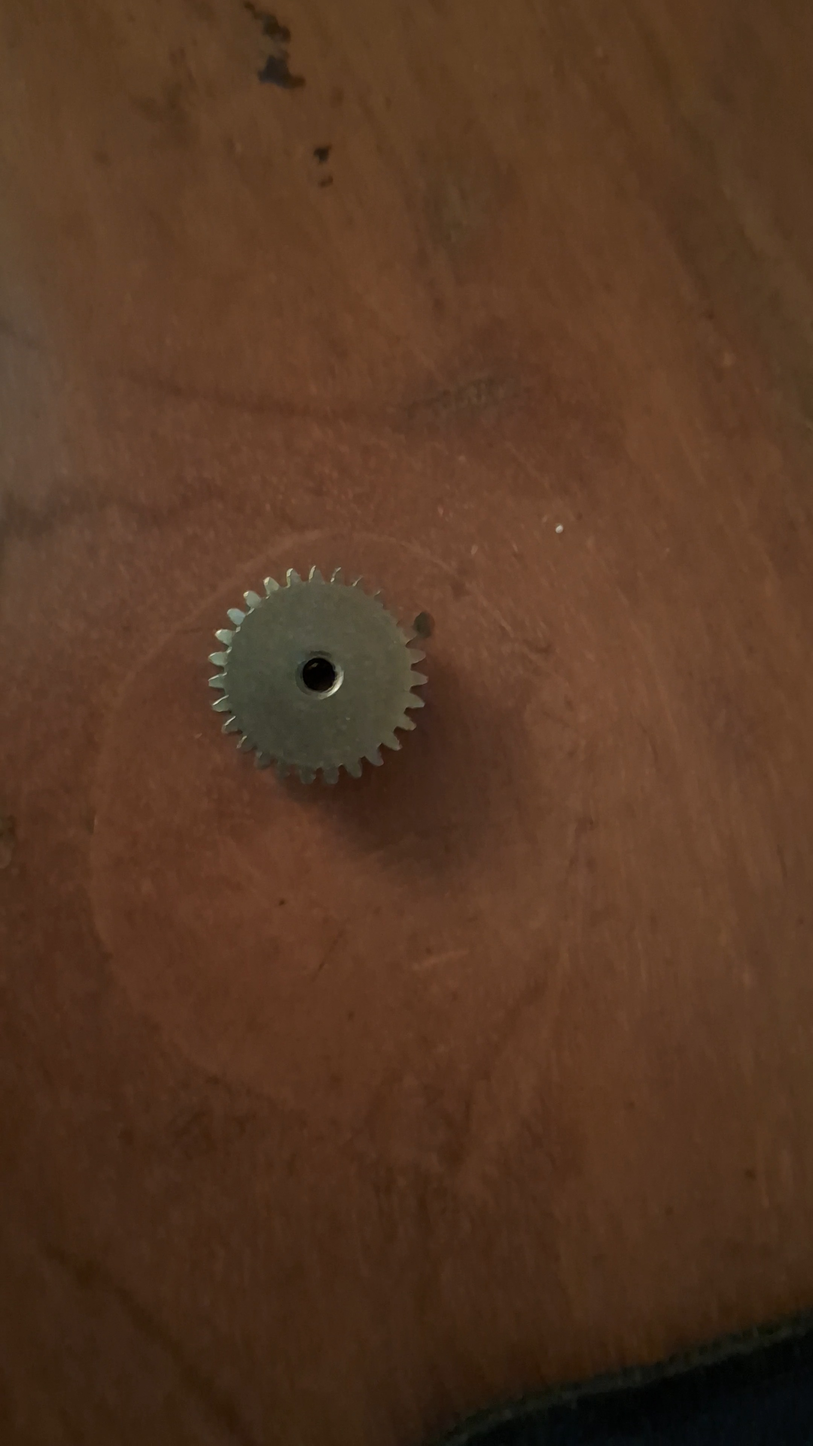spur gear: (210, 569, 426, 783)
